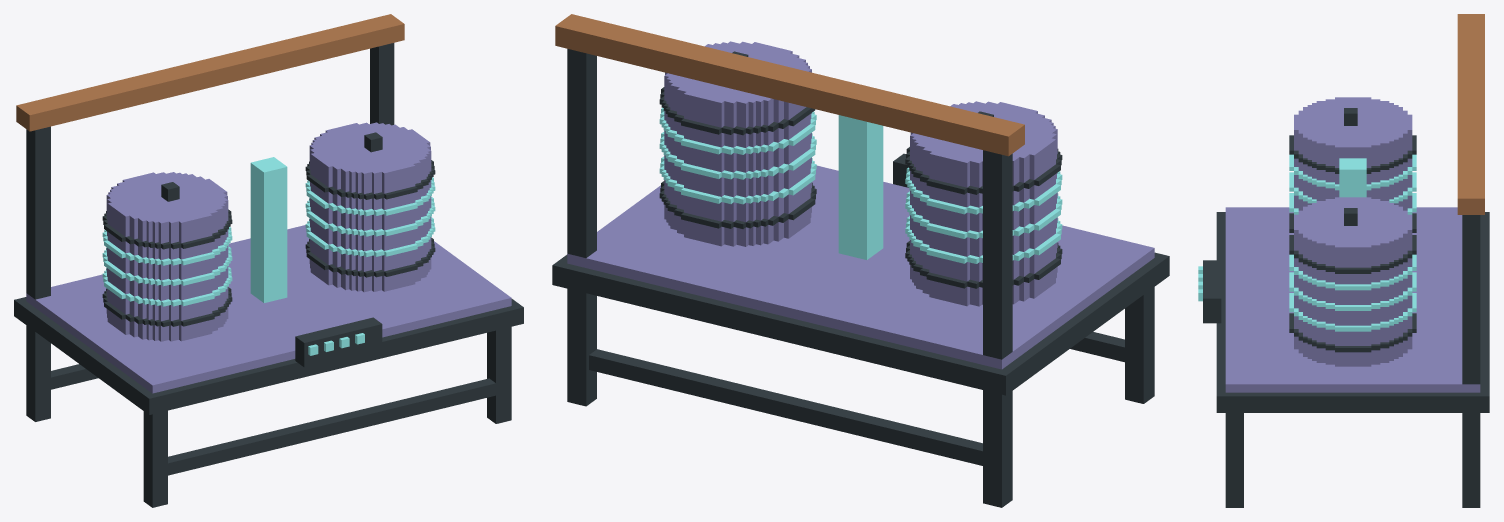
Rendered from arcane_engineering_station_t9.glb.
The picture shows the model from 3 angles, left to right: view 1: azimuth 30°, elevation 25°; view 2: azimuth 150°, elevation 25°; view 3: azimuth 270°, elevation 25°; orthographic projection. The views are drawn at different scales.
Parts seen in each view (by area): view 1: arcane_engineering_station_t9/work_surface, arcane_engineering_station_t9/frame, arcane_engineering_station_t9/work_surface_lid_1, arcane_engineering_station_t9/work_surface_lid_0; view 2: arcane_engineering_station_t9/work_surface, arcane_engineering_station_t9/frame, arcane_engineering_station_t9/work_surface_lid_0, arcane_engineering_station_t9/work_surface_lid_1; view 3: arcane_engineering_station_t9/work_surface, arcane_engineering_station_t9/frame, arcane_engineering_station_t9/work_surface_lid_1, arcane_engineering_station_t9/work_surface_lid_0.
Boxes of the visible parts, bbox=[...] form: arcane_engineering_station_t9/work_surface: bbox=[16, 14, 511, 393]; arcane_engineering_station_t9/frame: bbox=[14, 297, 523, 507]; arcane_engineering_station_t9/work_surface_lid_1: bbox=[309, 122, 431, 177]; arcane_engineering_station_t9/work_surface_lid_0: bbox=[106, 172, 228, 227]; arcane_engineering_station_t9/work_surface: bbox=[555, 14, 1154, 369]; arcane_engineering_station_t9/frame: bbox=[552, 252, 1169, 507]; arcane_engineering_station_t9/work_surface_lid_0: bbox=[910, 101, 1057, 168]; arcane_engineering_station_t9/work_surface_lid_1: bbox=[664, 41, 811, 108]; arcane_engineering_station_t9/work_surface: bbox=[1198, 14, 1484, 392]; arcane_engineering_station_t9/frame: bbox=[1216, 212, 1489, 507]; arcane_engineering_station_t9/work_surface_lid_1: bbox=[1294, 197, 1412, 251]; arcane_engineering_station_t9/work_surface_lid_0: bbox=[1294, 97, 1412, 151].
Bounding box in the file's own units: 3 × 2.38 × 2.
